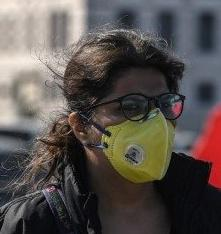OK: (97, 83, 178, 185)
